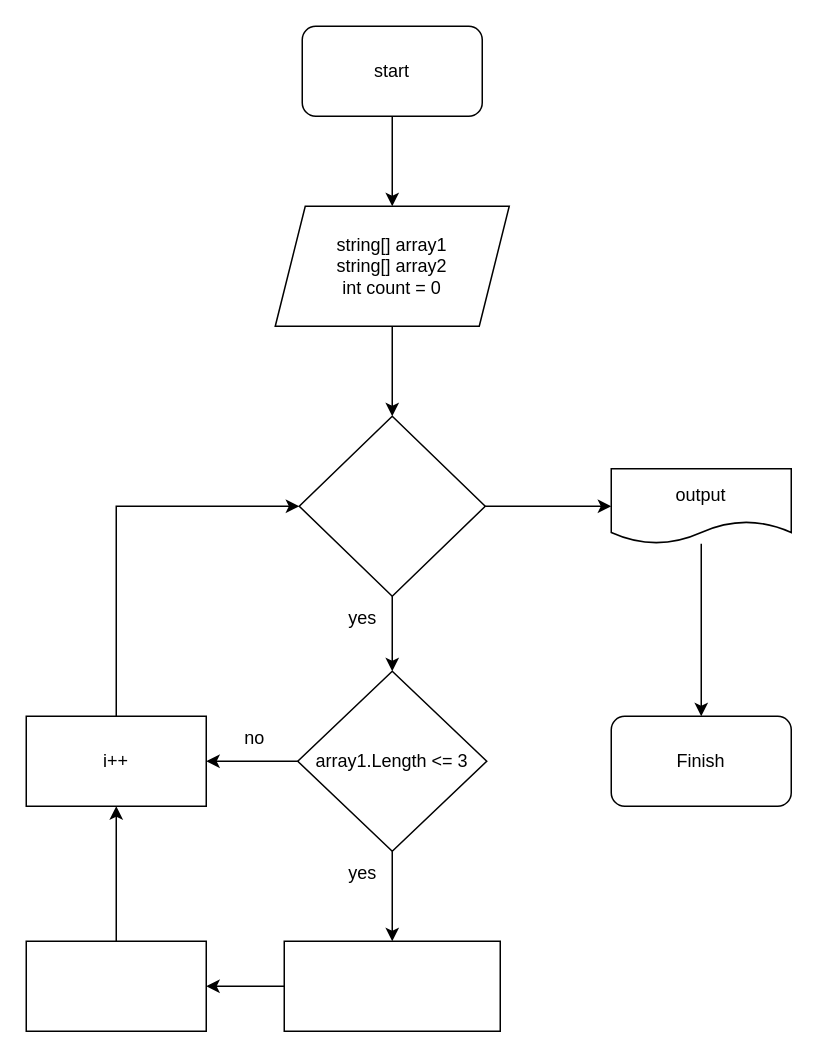
The diagram is 818 pixels wide and 1058 high, and some of its shapes have lost their labels. Each missing label, with the centre of its shape:
"array2[count] = array1[i]" belongs at point (391, 985).
"count++" belongs at point (115, 985).
"i < array1.Length" belongs at point (391, 505).
